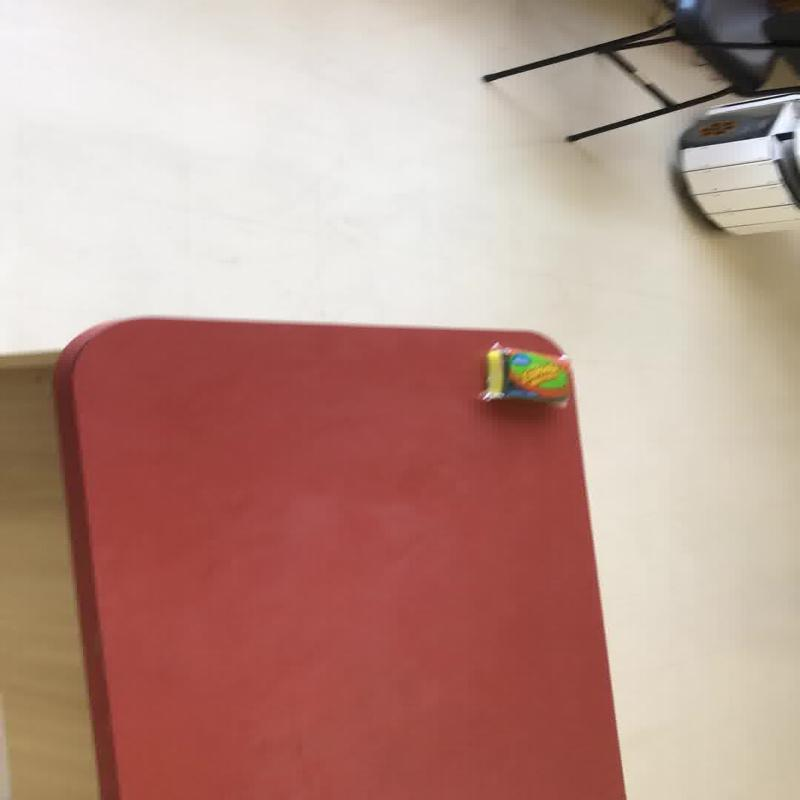sponge: (51, 314, 628, 798), (676, 90, 798, 236), (478, 340, 572, 406)
